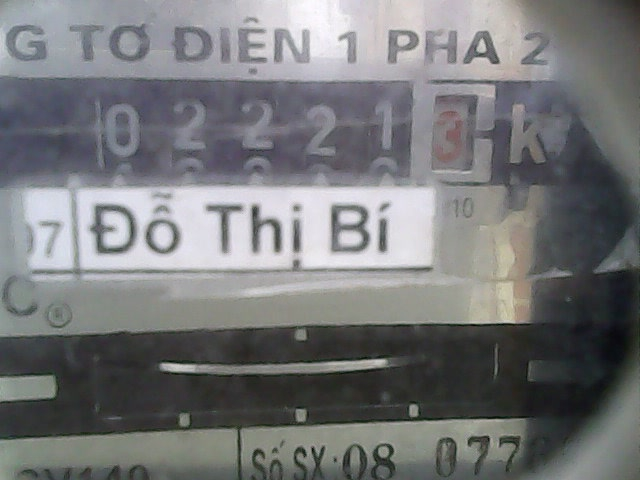phy_plate: (83, 77, 498, 188)
